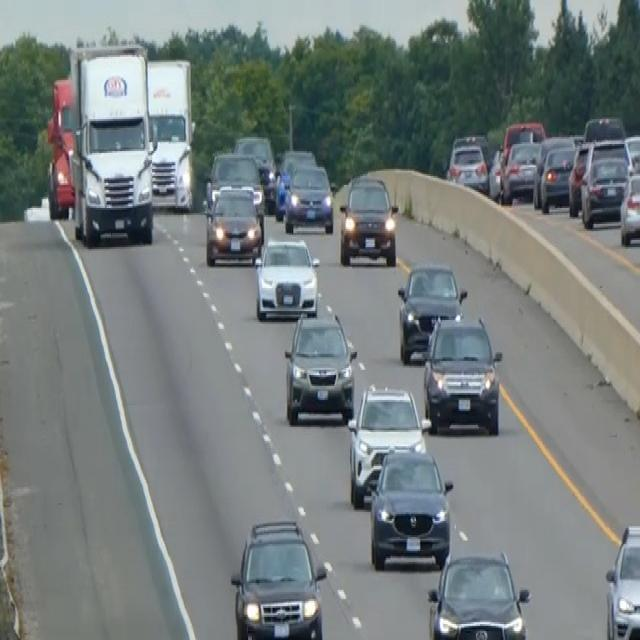car: (229, 516, 327, 638), (368, 442, 453, 570), (346, 382, 430, 507), (422, 311, 502, 436), (426, 548, 531, 638), (283, 306, 357, 425), (396, 261, 466, 363), (252, 235, 320, 320), (338, 172, 398, 266), (204, 181, 263, 267), (204, 150, 264, 222), (604, 521, 639, 638), (579, 151, 629, 228), (282, 162, 334, 234), (233, 134, 277, 206), (273, 146, 316, 218), (499, 138, 541, 202), (538, 144, 576, 213), (446, 138, 489, 194), (501, 117, 545, 160), (619, 169, 639, 245), (581, 112, 625, 142), (487, 144, 504, 199), (624, 132, 639, 172)
lorry: (67, 41, 155, 247)
